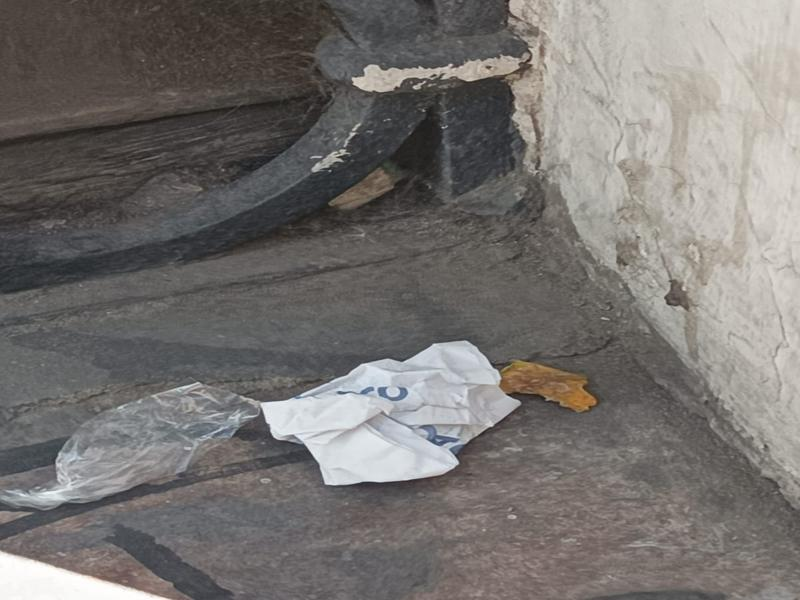papel: (259, 341, 522, 487)
